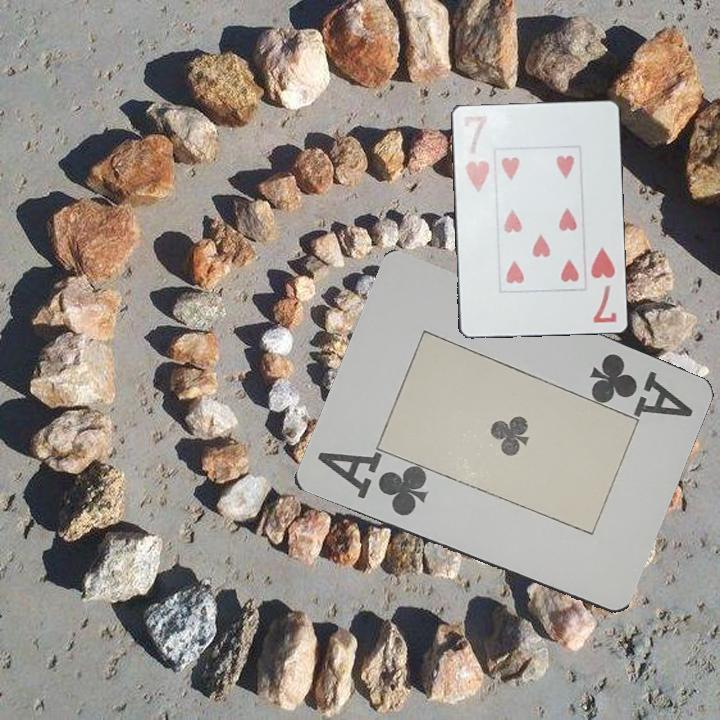7h: (458, 111, 492, 195), (587, 243, 619, 327)
Ac: (313, 448, 431, 520), (585, 348, 696, 421)
